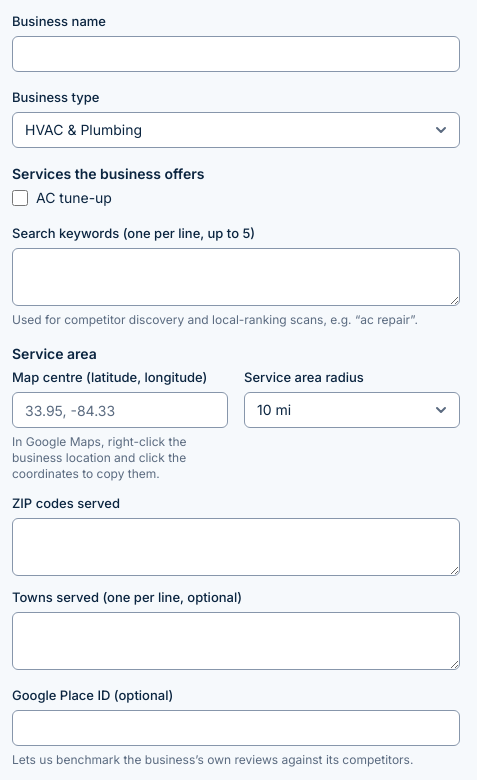
it: ClientProfileForm › shows the services of the chosen vertical when creating
Expected: the checkbox labelled "AC tune-up" is shown, [12,190,28,206]
Select "Dental" in the dropdown labelled "Business type": (236, 130) [12,112,460,148]
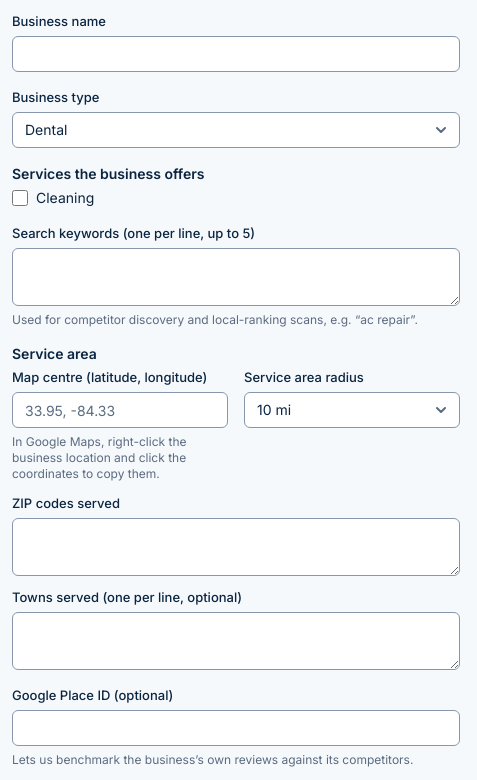
Expected: the checkbox labelled "Cleaning" is shown, [12,190,28,206]
Expected: the text labelled "AC tune-up" is gone
